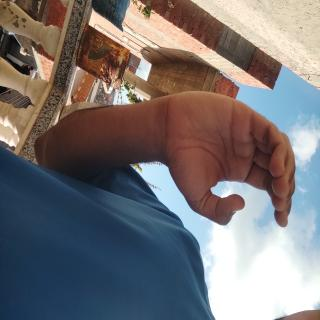JEEM: (59, 25, 176, 260)
